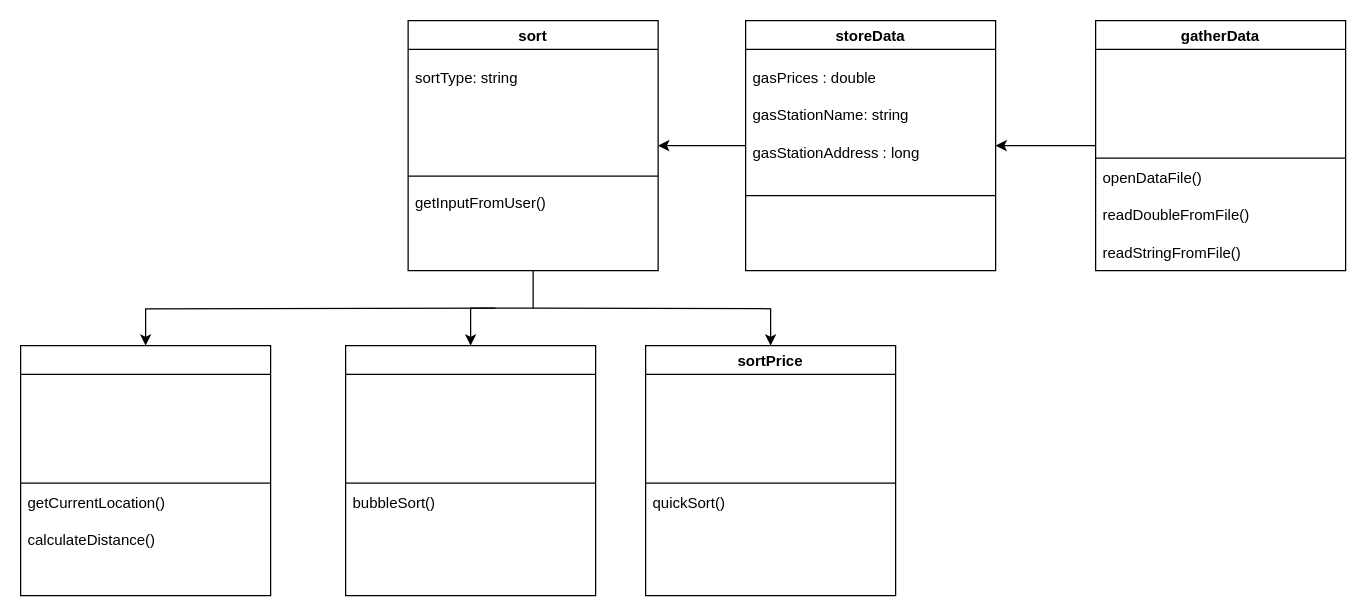
Some shapes in this 1366 by 616 pixel diagram are drawn without their labels. Here are the shapes that lost their labels. From the top down, the box of each, then its label:
(19, 344, 271, 596): sortProximity
(344, 344, 596, 596): sortAlphabetically
